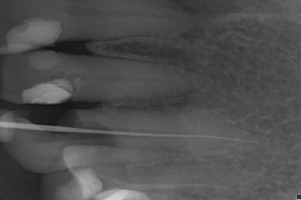Furcation Involvement: (178, 22, 204, 41), (169, 0, 195, 14)
